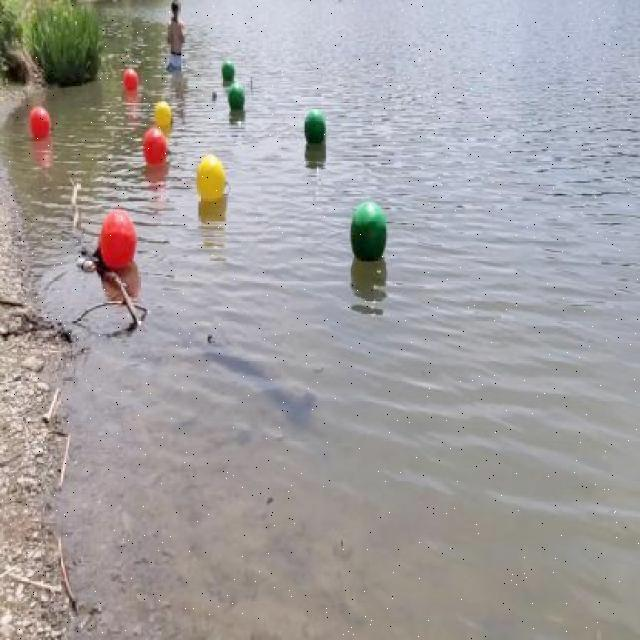buoy: (94, 208, 138, 274), (350, 196, 388, 264), (196, 150, 232, 204), (141, 124, 174, 170), (28, 102, 54, 144), (304, 104, 327, 148), (154, 98, 174, 134), (228, 83, 246, 114), (122, 66, 140, 96), (222, 54, 236, 86)
